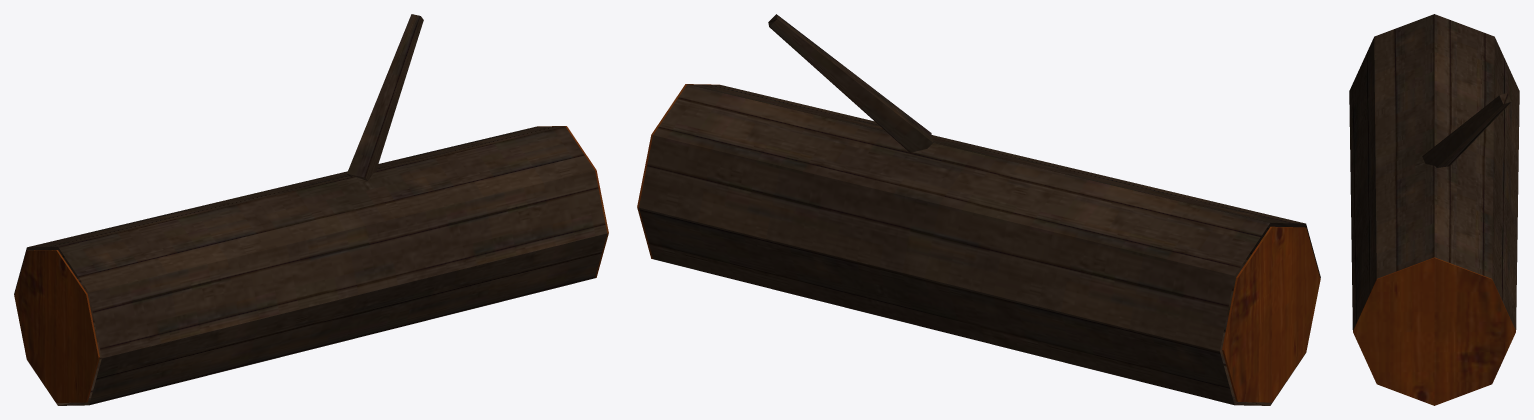
The model's file is log_01.glb.
The picture shows the model from 3 angles, left to right: view 1: azimuth 30°, elevation 25°; view 2: azimuth 150°, elevation 25°; view 3: azimuth 270°, elevation 25°; orthographic projection. The views are drawn at different scales.
Visible parts, largest first — view 1: log_01; view 2: log_01; view 3: log_01.
Part boxes in pixels (bbox=[...]): log_01: bbox=[14, 14, 608, 405]; log_01: bbox=[637, 14, 1320, 405]; log_01: bbox=[1349, 14, 1519, 405].
Bounding box in the file's own units: 1.61 × 0.8104 × 0.48.
2 materials, 2 textured.
